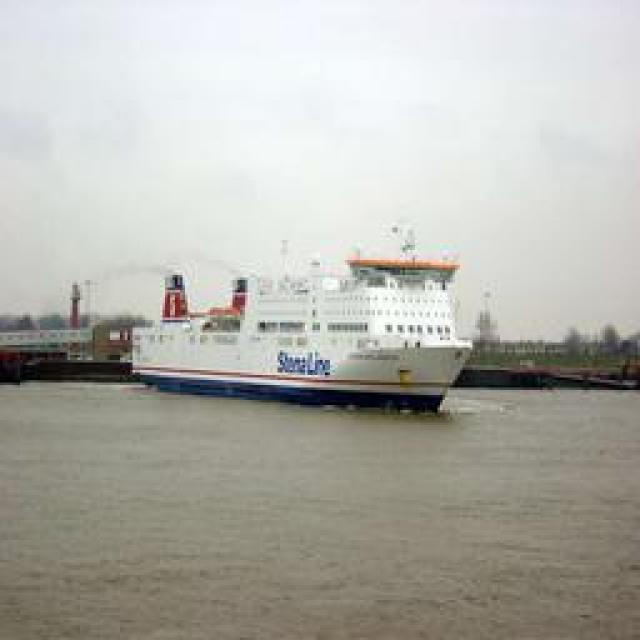Ship: (132, 235, 475, 415)
